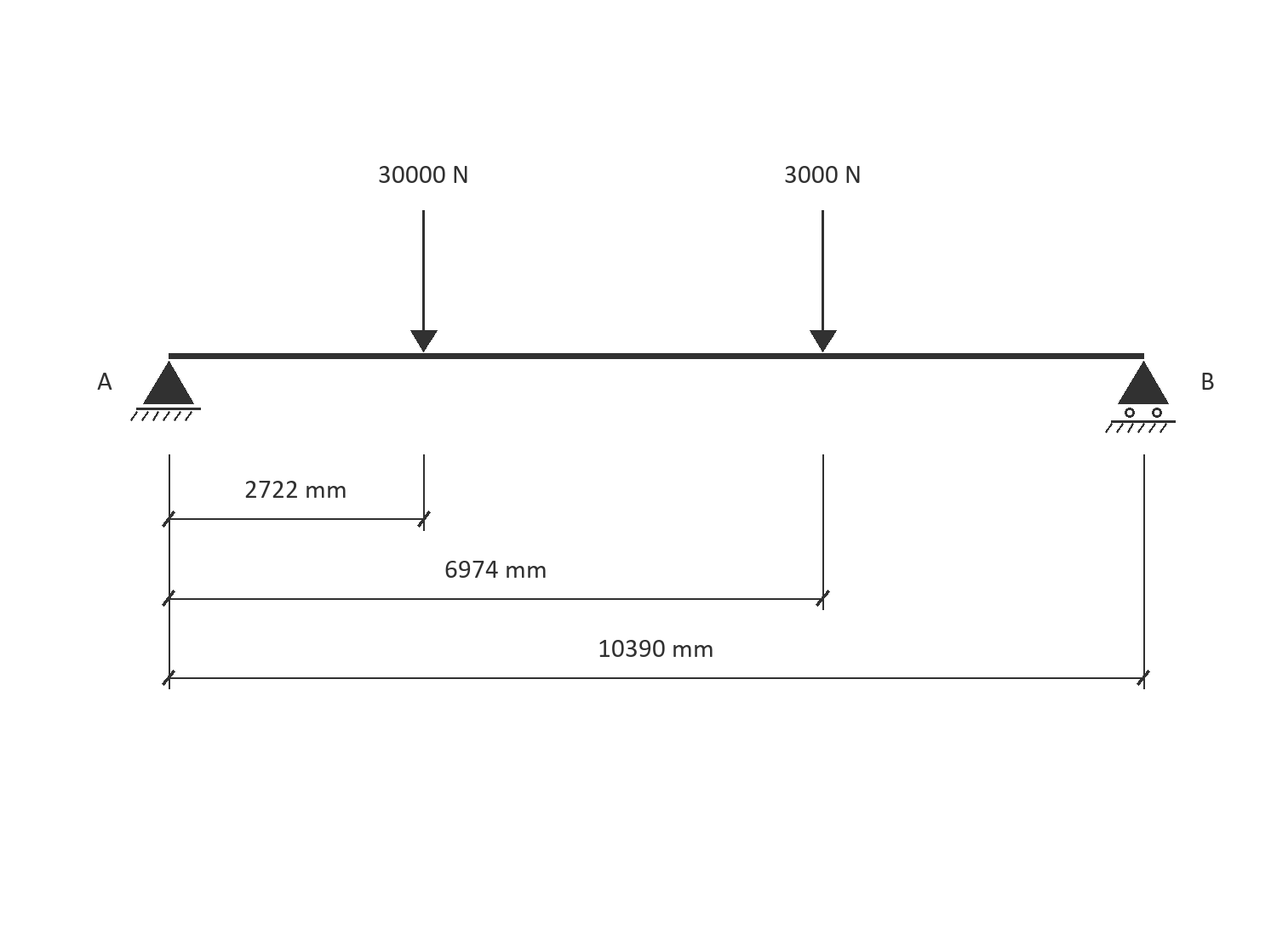pin_support: (130, 361, 201, 421)
point_load: (410, 210, 438, 352), (810, 210, 837, 352)
roller_support: (1105, 361, 1176, 433)
